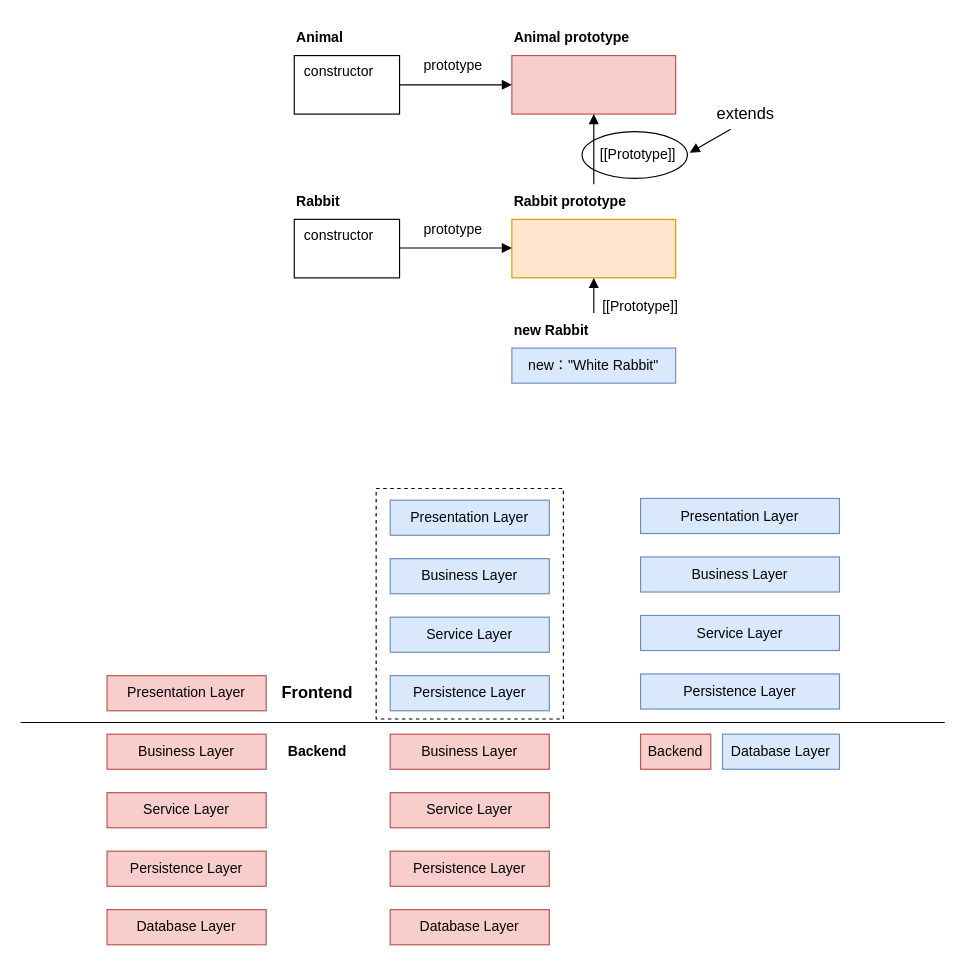
This 966x965 diagram has some shape labels left out. Here are the shapes that lost their labels. From the top down, the centre of each, then its label:
At pixel 593 84: "constructor：Animal run：function stop：function".
At pixel 593 248: "constructor：Rabbit hide: function".
